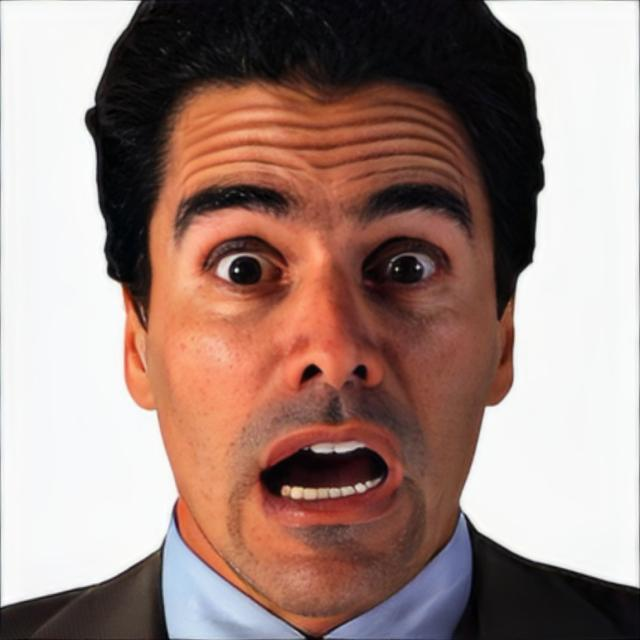fear: (150, 73, 496, 618)
